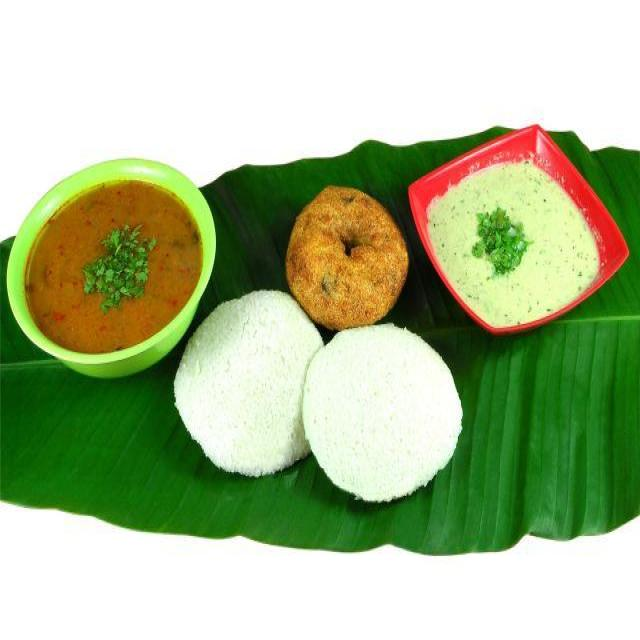IDLI: (303, 324, 461, 500), (175, 291, 322, 476)
MEDU VADA: (285, 187, 408, 329)
